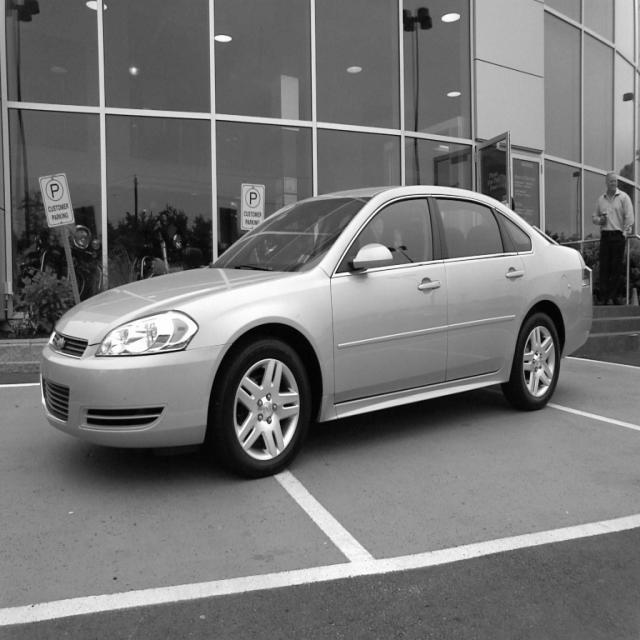car: (39, 184, 593, 478)
